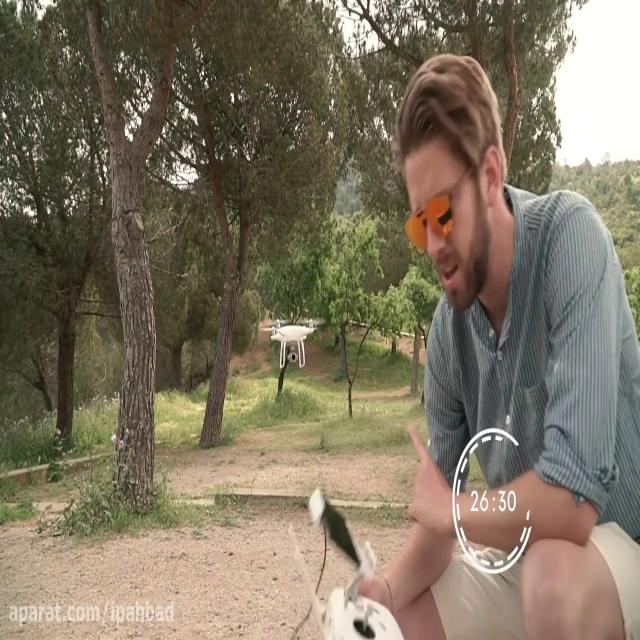drone: (256, 312, 328, 371)
